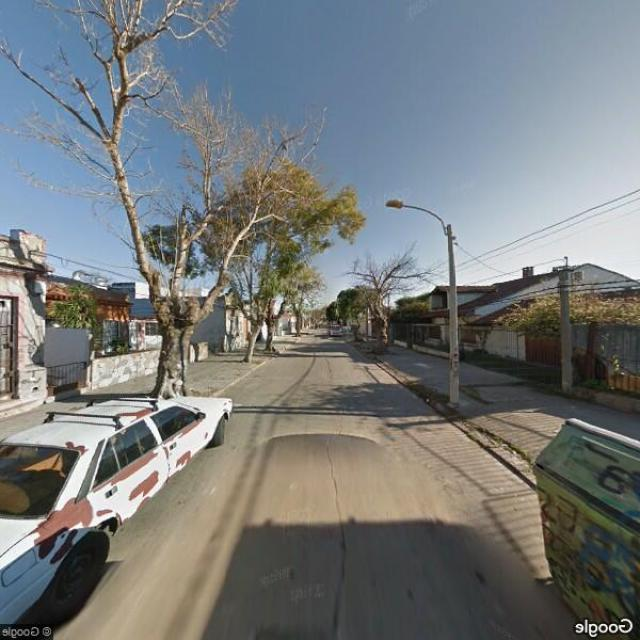garbage container: (498, 407, 639, 640)
